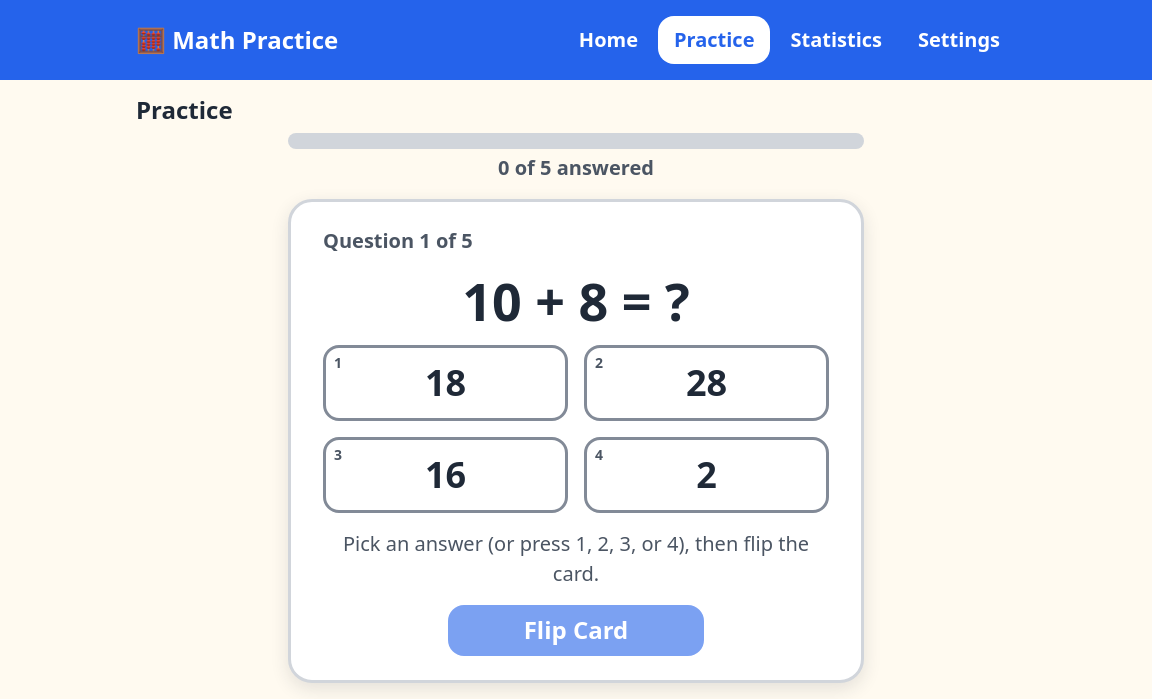
Scenario: leaving a session in progress › does not ask before anything has been answered, and forgets that session
Click the link "Statistics".
click(836, 40)  # box x1=790 y1=26 x2=882 y2=53
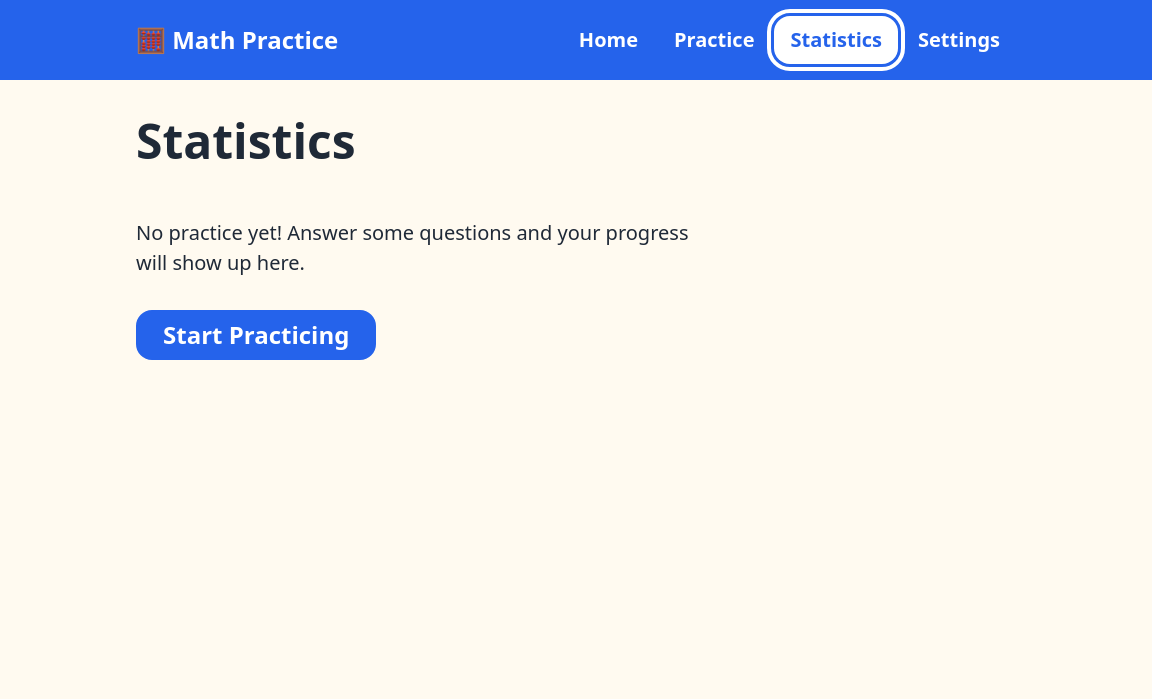
Check: the heading "Statistics" is shown, box x1=136 y1=108 x2=356 y2=173
